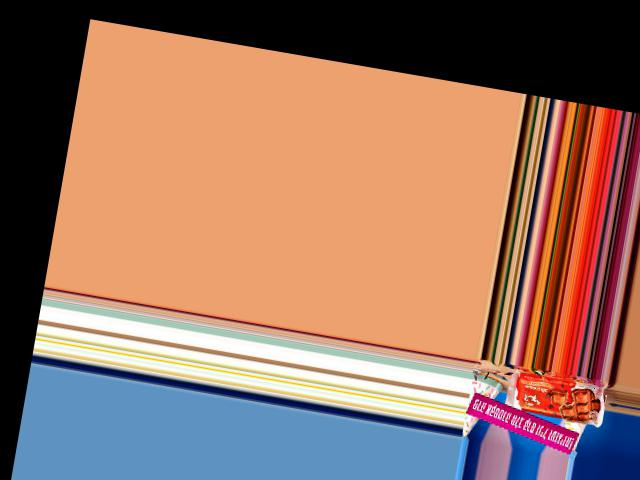chocolate: (501, 367, 611, 429)
